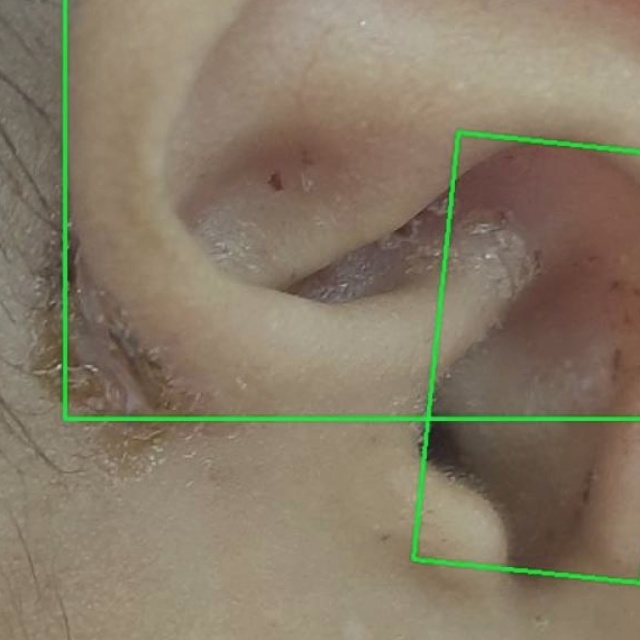Eczema: (65, 0, 639, 418), (411, 132, 639, 583)
